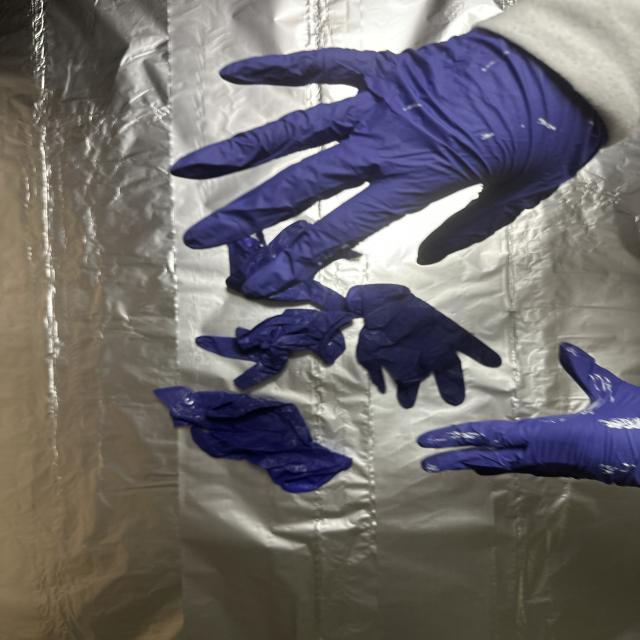gloves_contaminated: (171, 29, 608, 297), (418, 344, 640, 486)
